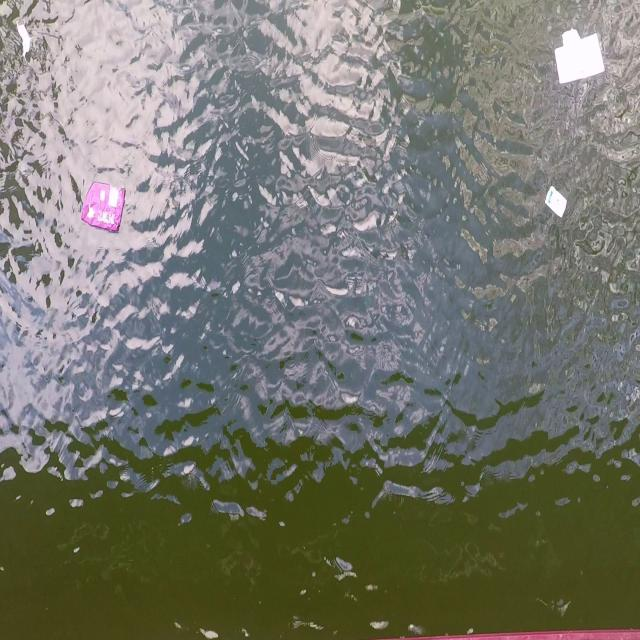Autre plastique: (550, 23, 608, 91), (542, 183, 569, 223)
Sac plastique: (77, 177, 132, 235)
